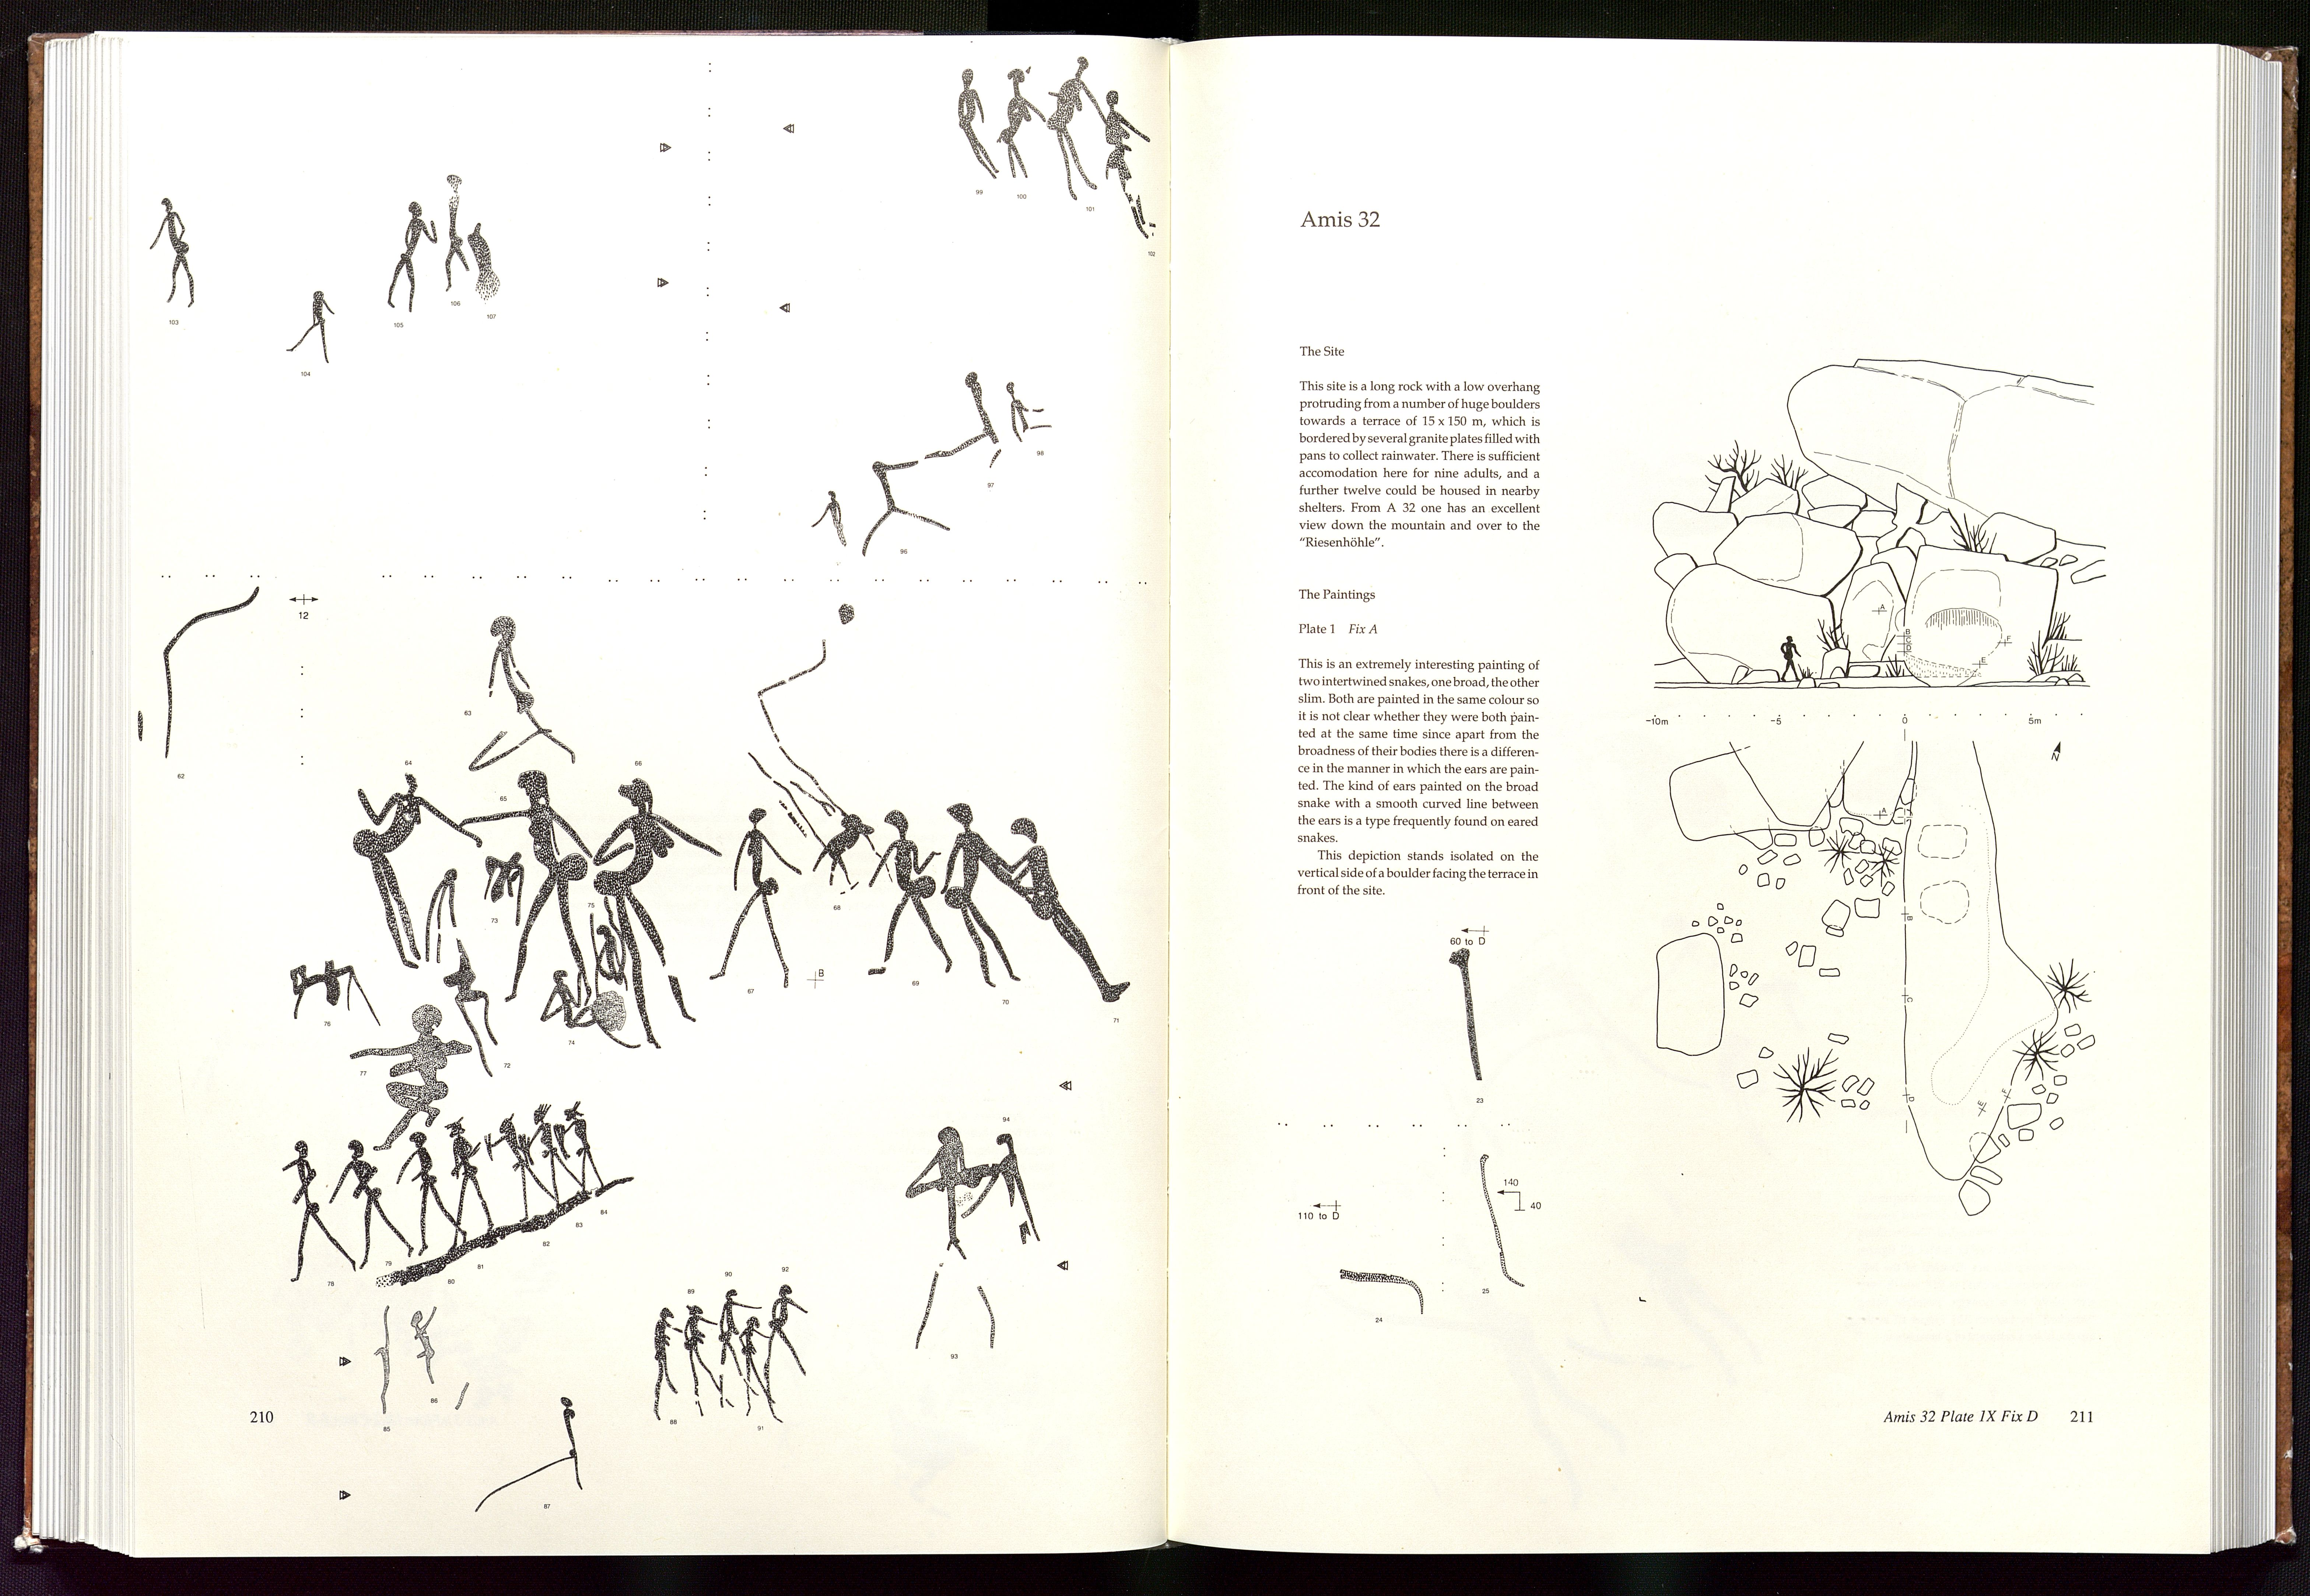human: (903, 1126, 1055, 1371), (463, 765, 608, 1008), (584, 772, 699, 1057), (994, 806, 1136, 1010), (336, 767, 446, 974), (864, 782, 964, 993), (702, 801, 798, 1005), (338, 1003, 478, 1140), (937, 797, 1033, 990), (473, 610, 581, 779), (471, 1388, 601, 1509), (326, 1143, 414, 1300), (274, 1130, 358, 1285), (1092, 80, 1161, 259), (392, 1130, 473, 1273), (1045, 48, 1104, 217), (441, 1108, 503, 1253), (527, 1101, 599, 1224), (488, 1111, 562, 1231), (986, 60, 1048, 202), (756, 1276, 807, 1416), (677, 1290, 731, 1420), (986, 377, 1065, 465), (810, 806, 879, 905), (424, 168, 476, 303), (387, 195, 439, 325), (729, 1310, 780, 1432), (947, 57, 994, 195), (709, 1283, 756, 1420), (151, 193, 201, 315), (645, 1290, 684, 1432), (559, 1104, 616, 1204), (404, 1300, 451, 1398), (291, 283, 343, 369)
